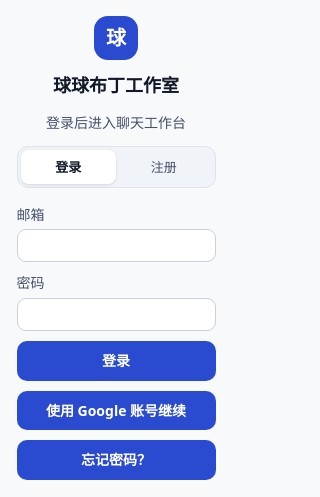
Test: LoginForm › registers from its own tab, and the reset link belongs to signing in only
Later steps or results of the test are not shown.
Expected: the button "忘记密码？" is shown, [16,440,216,480]
Click the tab "注册".
click(164, 167)  # box [116,150,212,184]
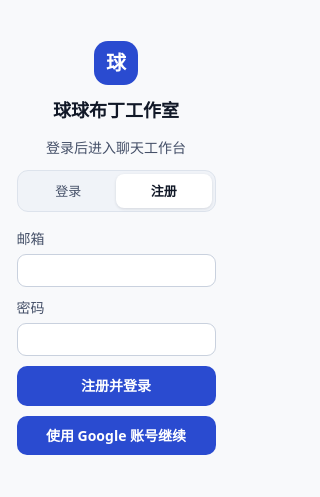
Now the button "忘记密码？" is gone
